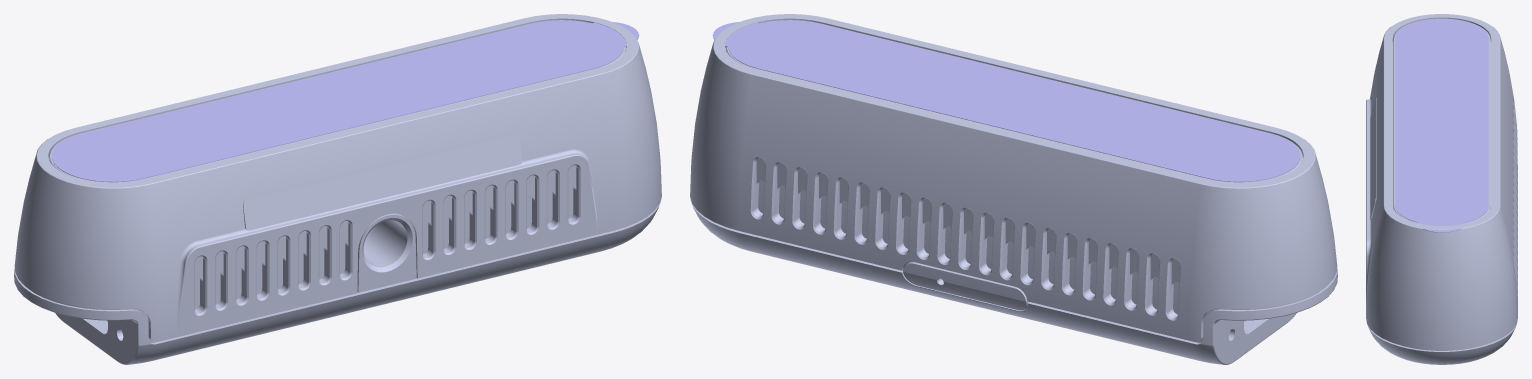
3 views of the same model, side by side, from view 1: azimuth 30°, elevation 25°; view 2: azimuth 150°, elevation 25°; view 3: azimuth 270°, elevation 25° (orthographic). The views are drawn at different scales.
Visible parts, largest first — view 1: D435i cvr (×2); view 2: D435i cvr (×2); view 3: D435i cvr (×2).
Boxes of the visible parts, x1,y1,x2,y2 form: D435i cvr (×2): [14, 14, 661, 364]; D435i cvr (×2): [690, 14, 1337, 364]; D435i cvr (×2): [1366, 14, 1517, 364].
Size of the model in its own units: 89.82 by 25 by 25.05.
